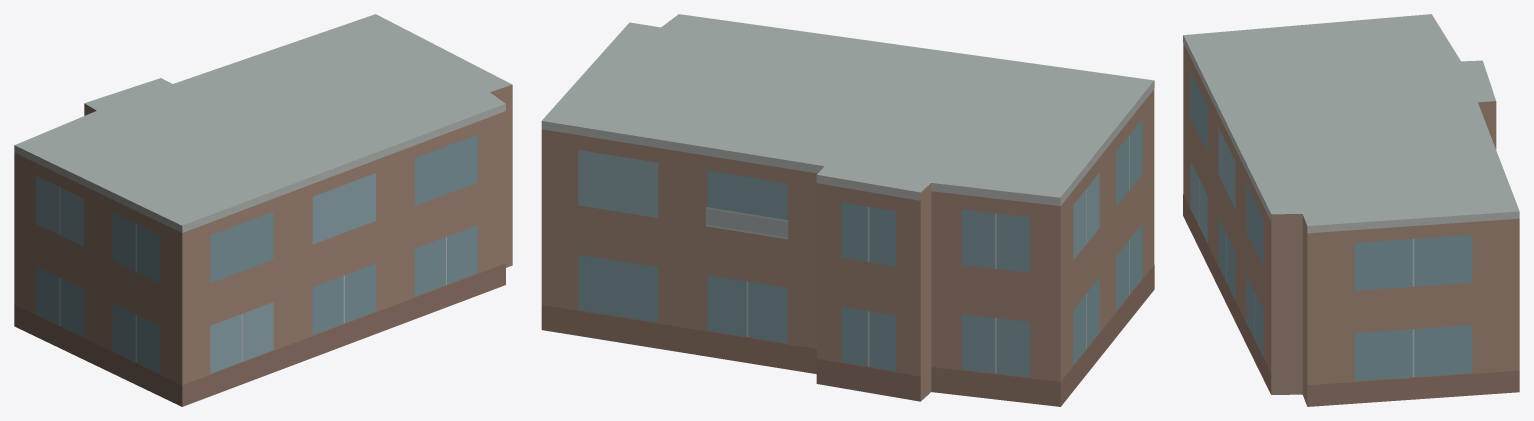
The model's file is survey-upis-32616218.glb.
3 views of the same model, side by side, from view 1: azimuth 30°, elevation 25°; view 2: azimuth 150°, elevation 25°; view 3: azimuth 270°, elevation 25° (orthographic). The views are drawn at different scales.
Parts seen in each view (by area): view 1: survey-upis-32616218.tmp; view 2: survey-upis-32616218.tmp; view 3: survey-upis-32616218.tmp.
Part boxes in pixels (x1,y1,x2,y2): survey-upis-32616218.tmp: [14, 14, 512, 406]; survey-upis-32616218.tmp: [541, 14, 1154, 406]; survey-upis-32616218.tmp: [1183, 14, 1519, 406].
Bounding box in the file's own units: 15.37 × 6.1 × 10.31.
